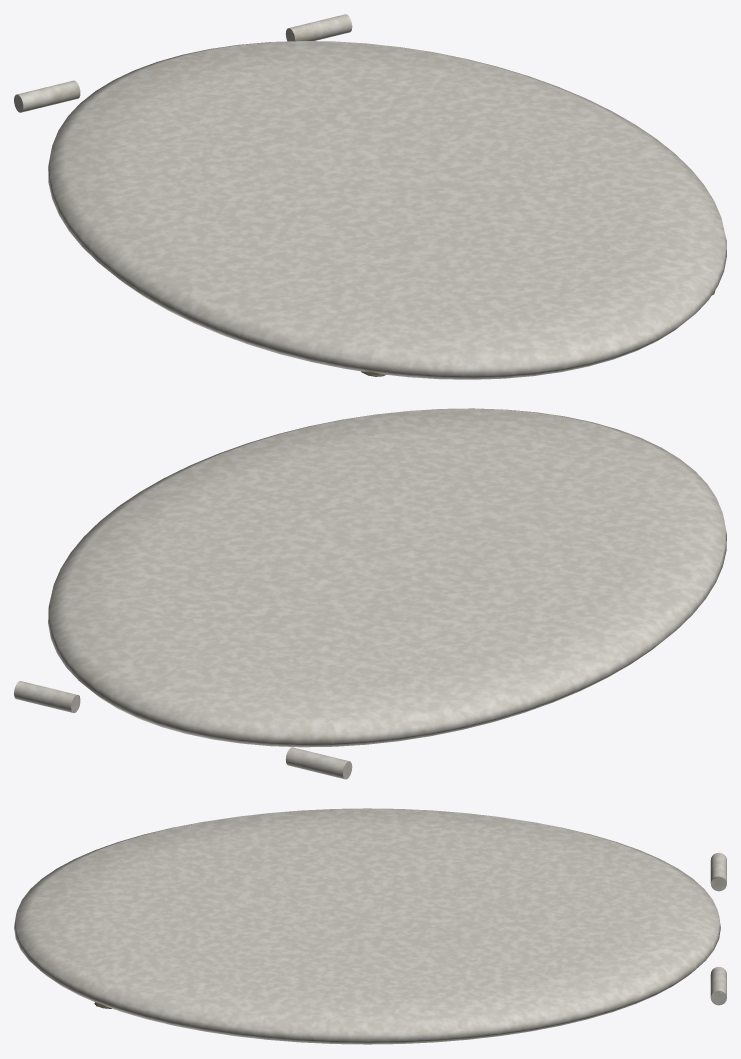
The model's file is tampa_vaso_sujo_realista.glb.
3 views of the same model, one above another, from view 1: azimuth 30°, elevation 25°; view 2: azimuth 150°, elevation 25°; view 3: azimuth 270°, elevation 25° (orthographic). The views are drawn at different scales.
Parts seen in each view (by area): view 1: Tampa; view 2: Tampa; view 3: Tampa.
Part boxes in pixels (x1,y1,x2,y2): Tampa: [14, 14, 726, 379]; Tampa: [14, 408, 726, 779]; Tampa: [14, 808, 726, 1044].
Size of the model in its own units: 0.398 by 0.0215 by 0.5285.
1 material, 1 textured.
